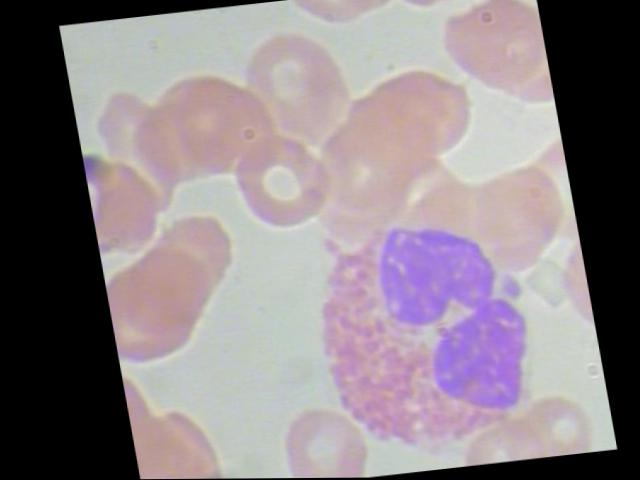Red Blood Cells: (231, 25, 352, 151), (225, 126, 333, 243), (265, 392, 370, 478), (485, 385, 587, 462), (442, 414, 540, 467), (287, 0, 386, 42), (383, 0, 504, 31), (381, 0, 501, 29)
White Blood Cells: (290, 208, 548, 472)
